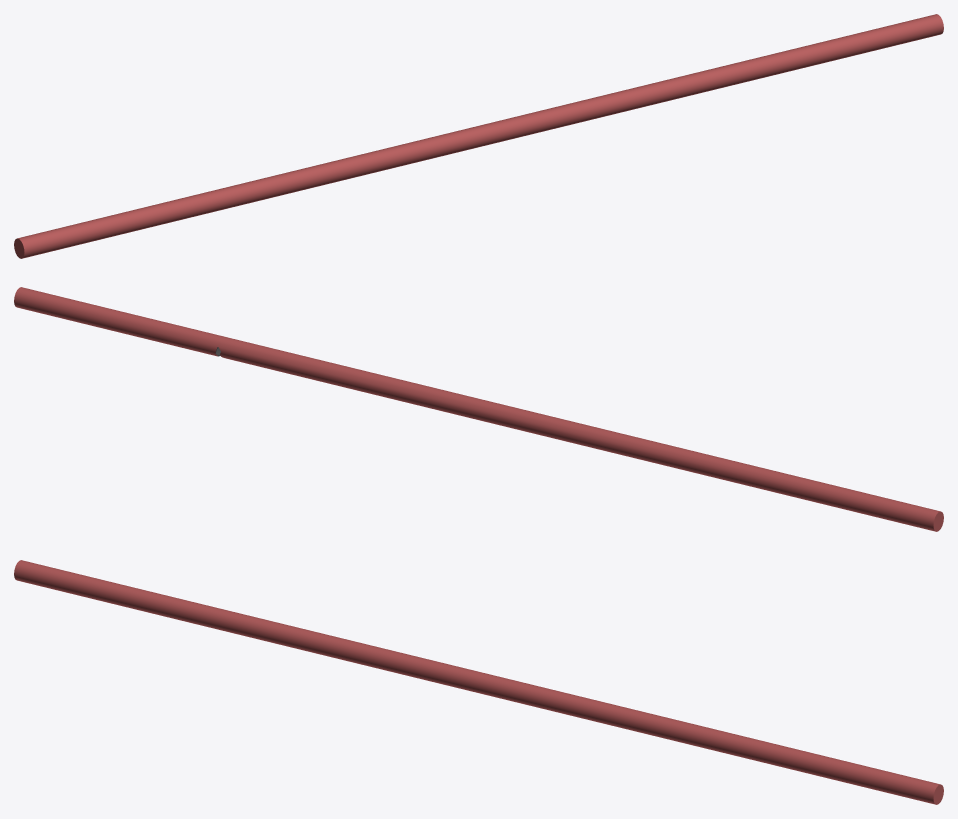
Rendered from pipe_cracked_depot.fbx.
3 views of the same model, one above another, from view 1: azimuth 30°, elevation 25°; view 2: azimuth 150°, elevation 25°; view 3: azimuth 330°, elevation 25° (orthographic).
Visible parts, largest first — view 1: pipe; view 2: pipe; view 3: pipe.
Part boxes in pixels (x1,y1,x2,y2): pipe: [14, 14, 943, 258]; pipe: [14, 287, 943, 531]; pipe: [14, 560, 943, 804].
Bounding box in the file's own units: 11.57 × 0.229 × 0.229.
